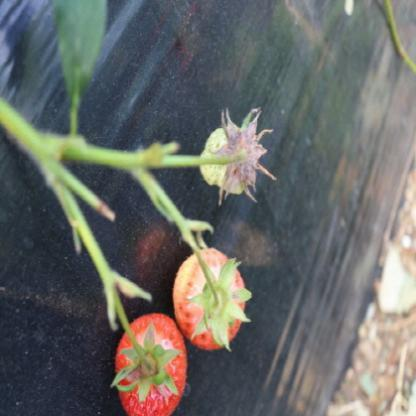Strawberry_Gray_Mold: (207, 106, 280, 207)
